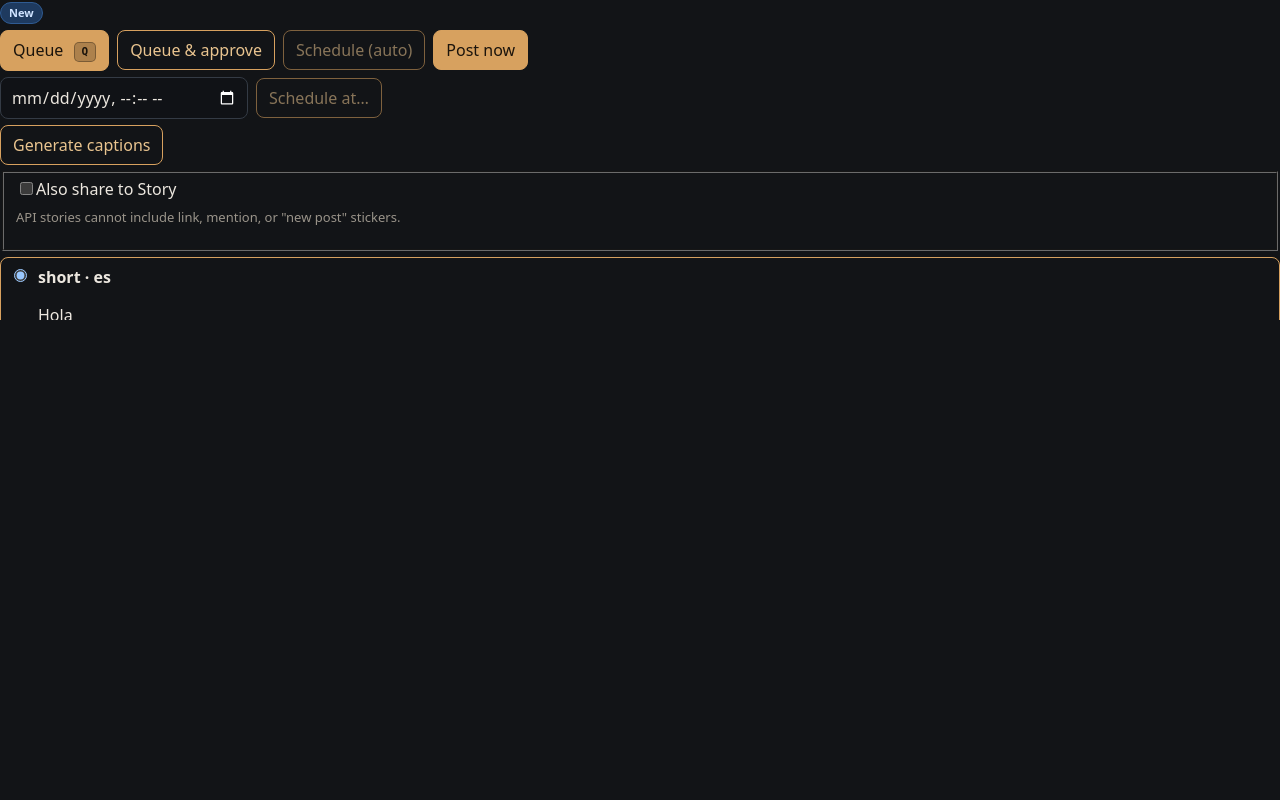
it: ClassifyPublishPanel Post now › cancel sends nothing
Click the button "Post now" at point(481, 50), box [433,30,528,70]
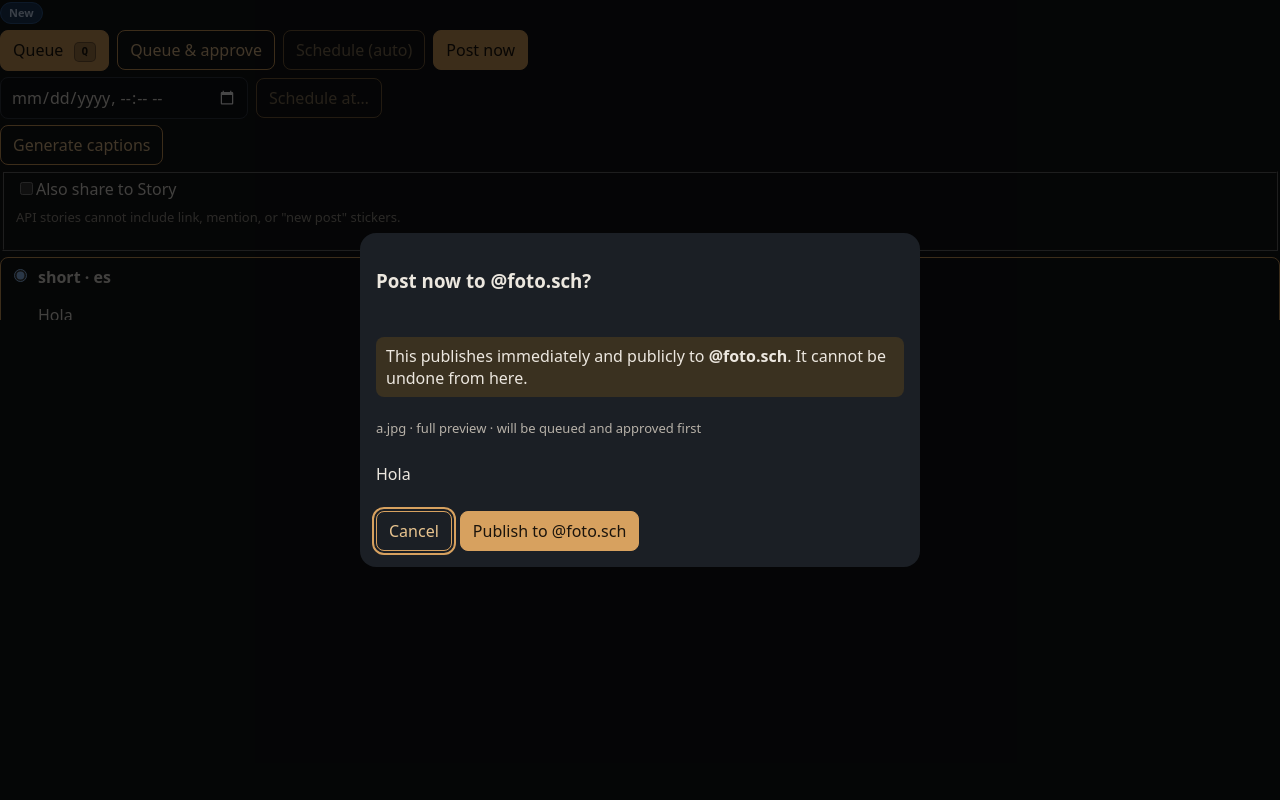
Click the button "Cancel" at point(414, 531), box [376,511,452,551]
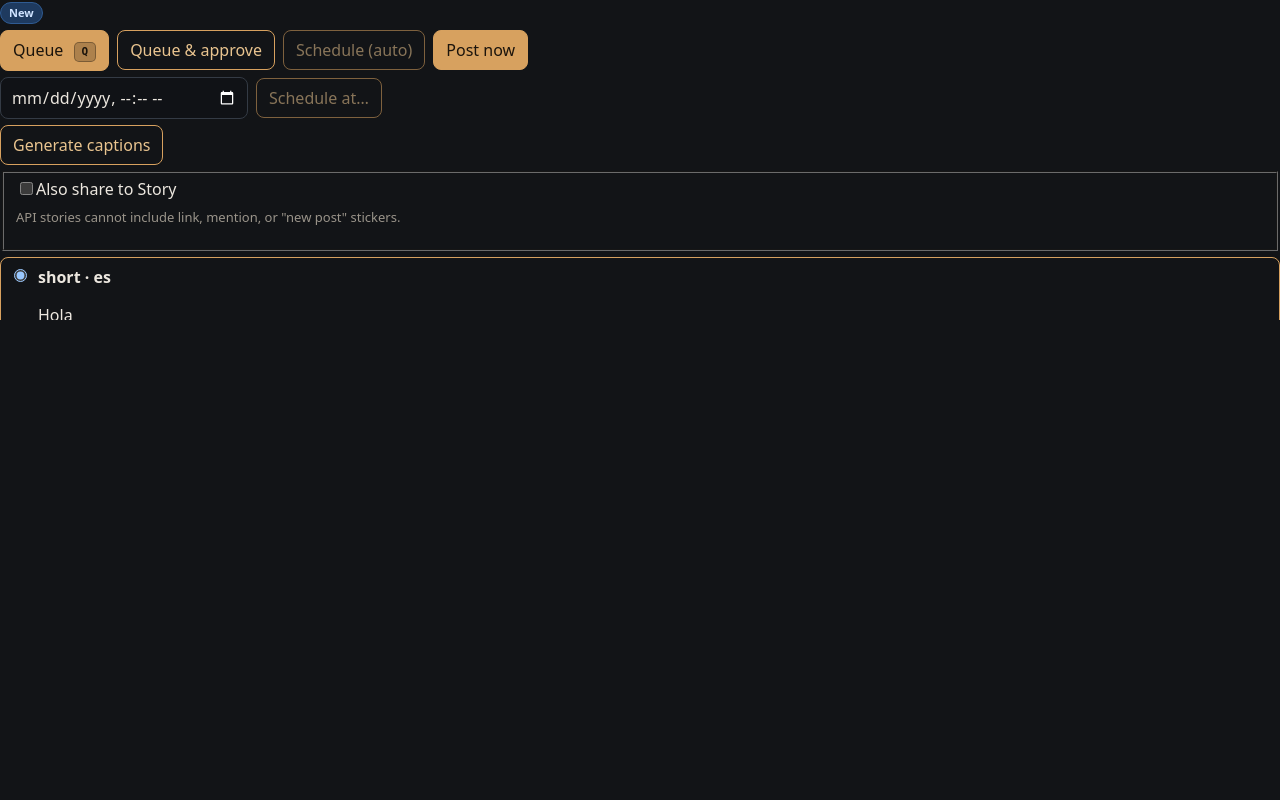
Expected: the dialog is gone
